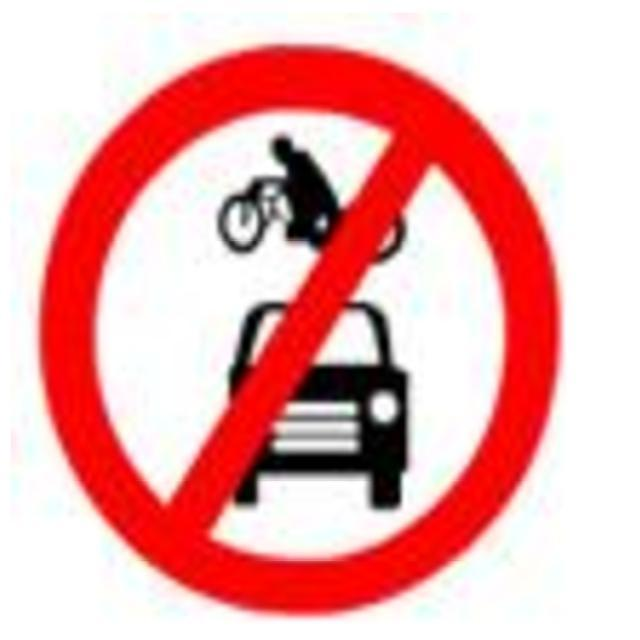all motor vehicle prohibited: (28, 31, 571, 626)
